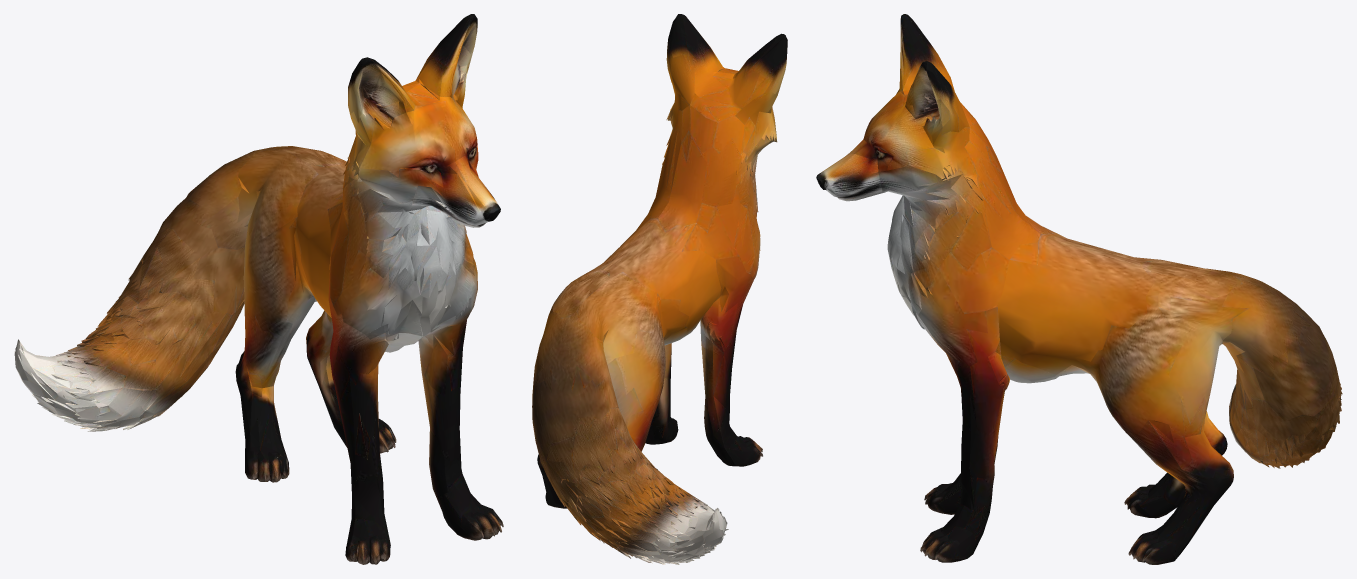
The model's file is volpe.glb.
3 views of the same model, side by side, from view 1: azimuth 30°, elevation 25°; view 2: azimuth 150°, elevation 25°; view 3: azimuth 270°, elevation 25° (orthographic). The views are drawn at different scales.
Size of the model in its own units: 1.12 by 1.9 by 1.86.
1 material, 1 textured.
